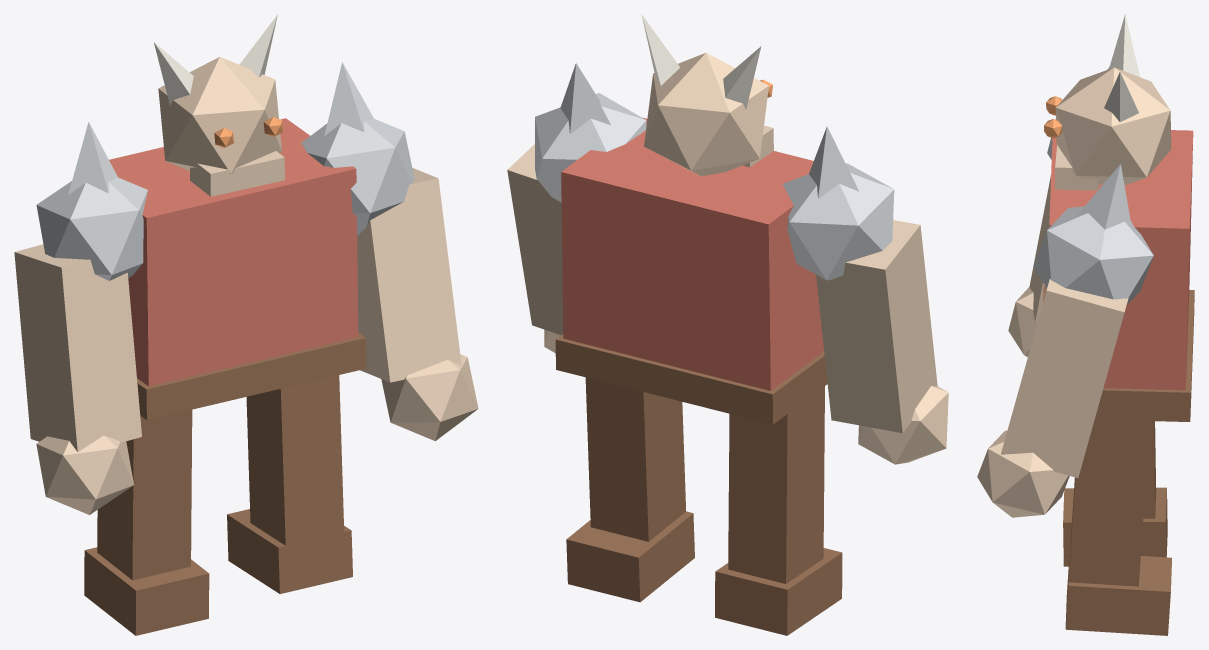
File: npcpose_brute_idle_09.glb
3 views of the same model, side by side, from view 1: azimuth 30°, elevation 25°; view 2: azimuth 150°, elevation 25°; view 3: azimuth 270°, elevation 25° (orthographic). The views are drawn at different scales.
Visible parts, largest first — view 1: npcpose; view 2: npcpose; view 3: npcpose.
Boxes of the visible parts, box(x1,y1,x2,y2) form: npcpose: box(14, 14, 478, 635); npcpose: box(507, 14, 948, 635); npcpose: box(977, 14, 1194, 635).
Size of the model in its own units: 1.43 by 1.86 by 0.6766.
